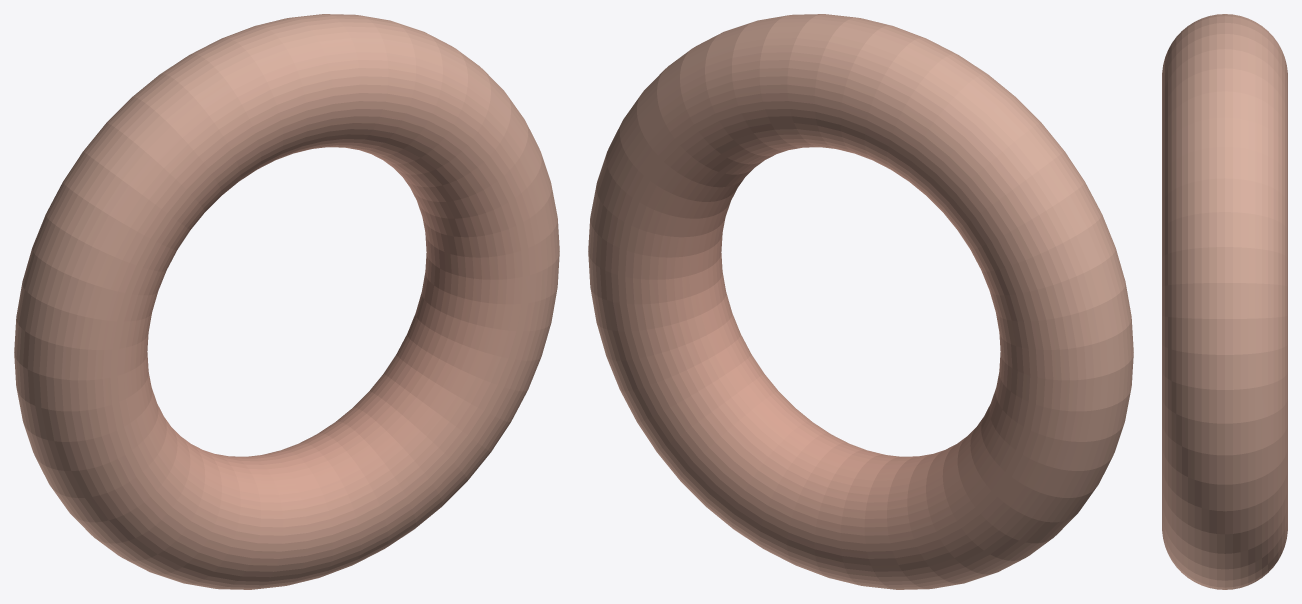
3 views of the same model, side by side, from view 1: azimuth 30°, elevation 25°; view 2: azimuth 150°, elevation 25°; view 3: azimuth 270°, elevation 25° (orthographic). The views are drawn at different scales.
Parts seen in each view (by area): view 1: world; view 2: world; view 3: world.
Part boxes in pixels (<box>): world: <box>14,14,559,589</box>; world: <box>588,14,1133,589</box>; world: <box>1162,14,1287,589</box>.
Size of the model in its own units: 29.87 by 29.81 by 6.52.
